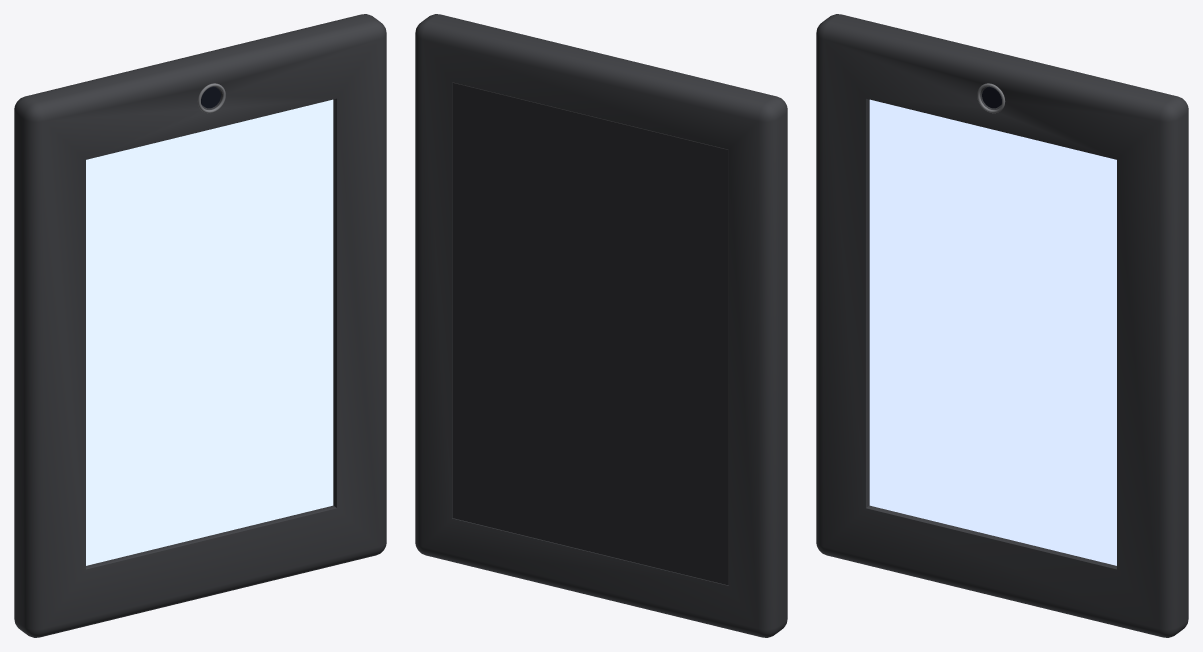
The model's file is electronic_photo_frame.glb.
3 views of the same model, side by side, from view 1: azimuth 30°, elevation 25°; view 2: azimuth 150°, elevation 25°; view 3: azimuth 330°, elevation 25° (orthographic).
Parts seen in each view (by area): view 1: Frame, Screen; view 2: BackPanel, Frame; view 3: Frame, Screen.
Boxes of the visible parts, box(x1,y1,x2,y2) form: Frame: box(14, 14, 386, 637); Screen: box(86, 99, 333, 565); BackPanel: box(452, 82, 728, 584); Frame: box(415, 14, 787, 637); Frame: box(816, 14, 1188, 637); Screen: box(869, 99, 1116, 565).
Size of the model in its own units: 0.17 by 0.24 by 0.0189.
